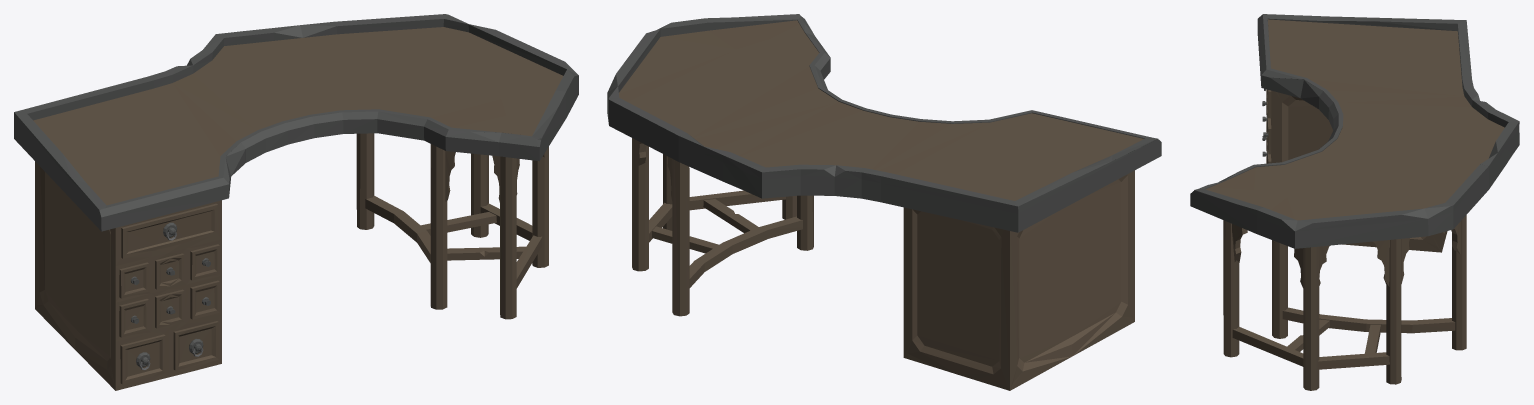
File: Table_002.fbx
3 views of the same model, side by side, from view 1: azimuth 30°, elevation 25°; view 2: azimuth 150°, elevation 25°; view 3: azimuth 270°, elevation 25° (orthographic). The views are drawn at different scales.
Visible parts, largest first — view 1: Table_002; view 2: Table_002; view 3: Table_002.
Boxes of the visible parts, x1,y1,x2,y2 form: Table_002: (14,14,578,390); Table_002: (607,14,1161,390); Table_002: (1190,14,1519,390).
Size of the model in its own units: 2.8 by 1.05 by 1.79.
